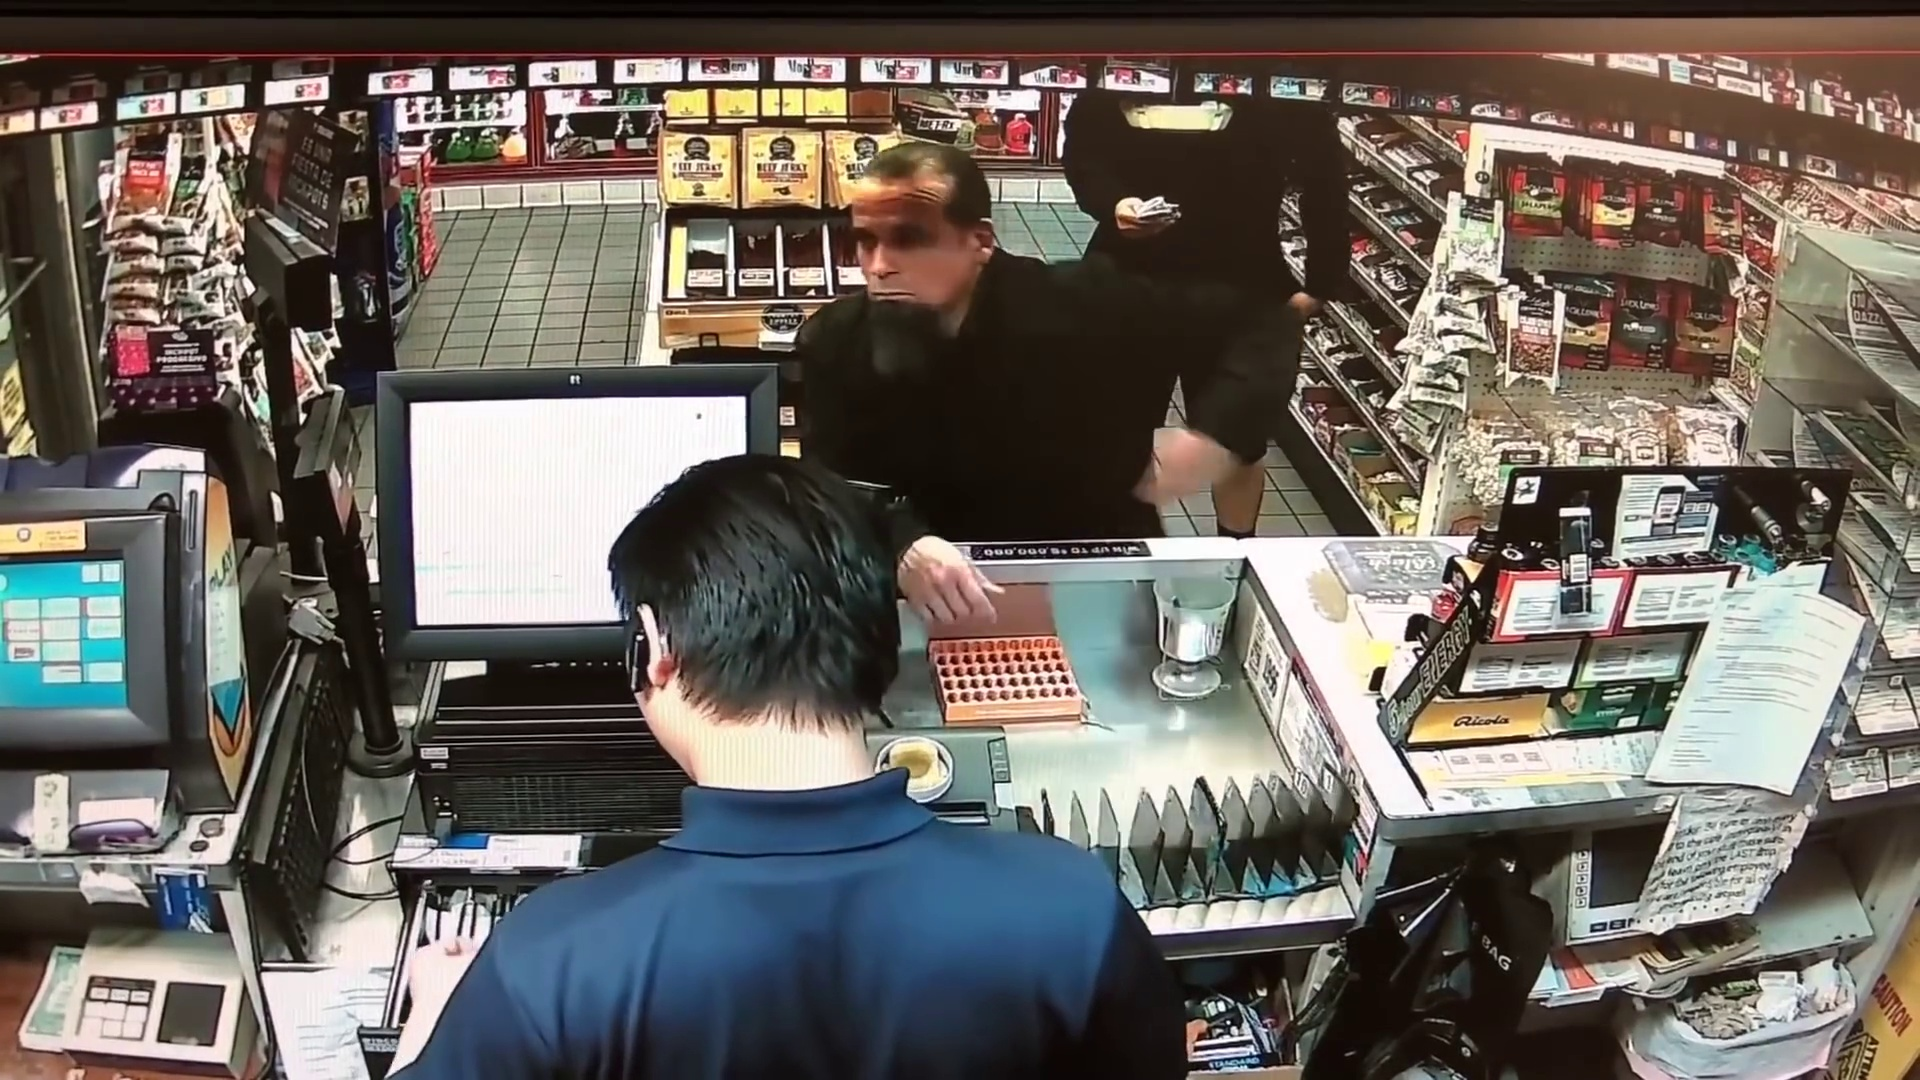face: (848, 172, 952, 314)
